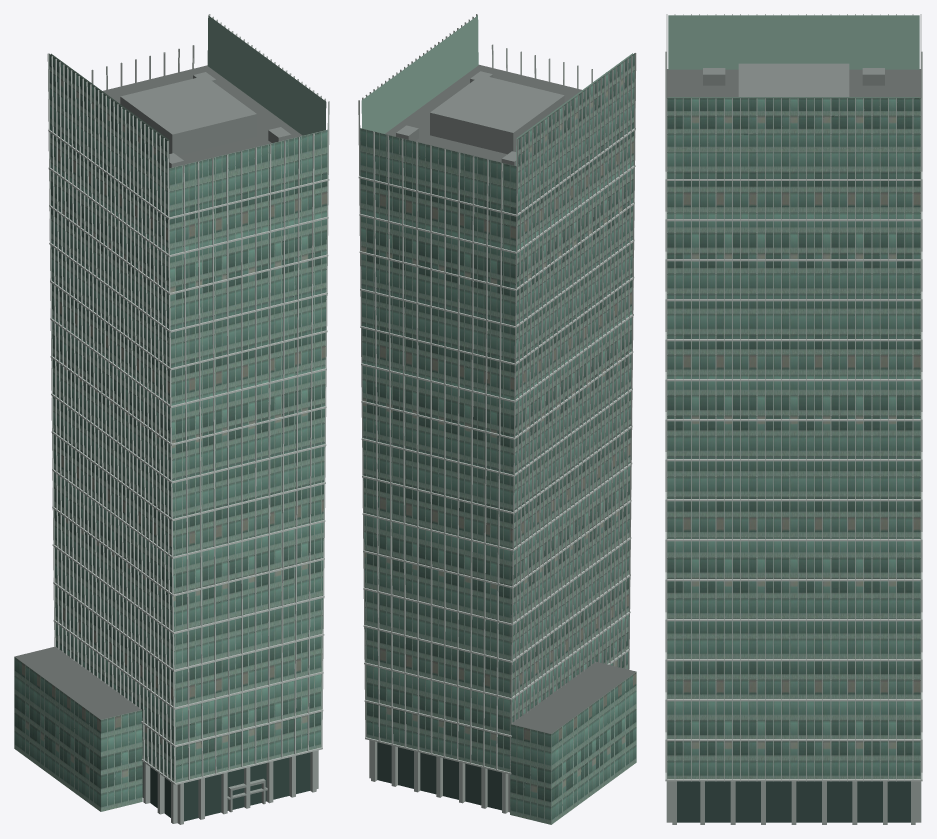
File: mission_555.glb
3 renders of one model, left to right at view 1: azimuth 30°, elevation 25°; view 2: azimuth 150°, elevation 25°; view 3: azimuth 270°, elevation 25°, orthographic. The views are drawn at different scales.
Visible parts, largest first — view 1: mission_555; view 2: mission_555; view 3: mission_555.
Boxes of the visible parts, <box> form: mission_555: <box>14,14,329,824</box>; mission_555: <box>358,14,636,824</box>; mission_555: <box>665,14,922,824</box>.
Bounding box in the file's own units: 44.42 × 149 × 47.5.
Materials: 2 (2 with a texture image).
